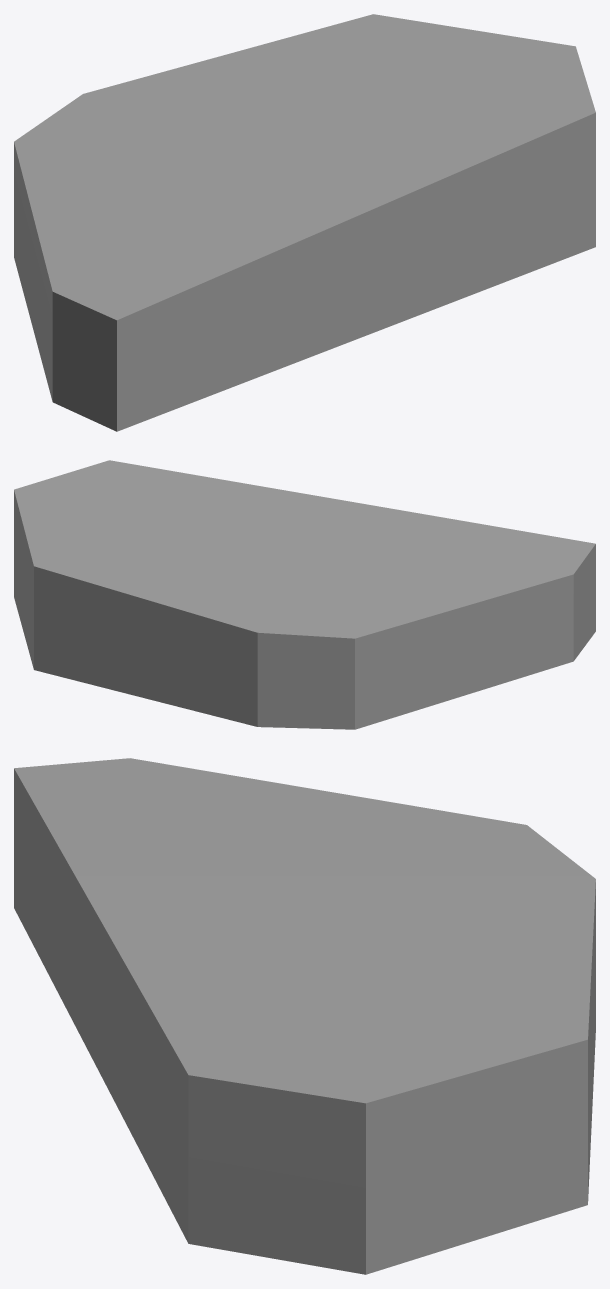
Rendered from stone flat.fbx.
3 renders of one model, top to bottom at view 1: azimuth 30°, elevation 25°; view 2: azimuth 150°, elevation 25°; view 3: azimuth 270°, elevation 25°, orthographic. The views are drawn at different scales.
Parts seen in each view (by area): view 1: stone flat; view 2: stone flat; view 3: stone flat.
Boxes of the visible parts, x1=… form: stone flat: x1=14, y1=14, x2=595, y2=431; stone flat: x1=14, y1=460, x2=595, y2=729; stone flat: x1=14, y1=758, x2=595, y2=1274.
Bounding box in the file's own units: 53.41 × 11.3 × 34.77.
